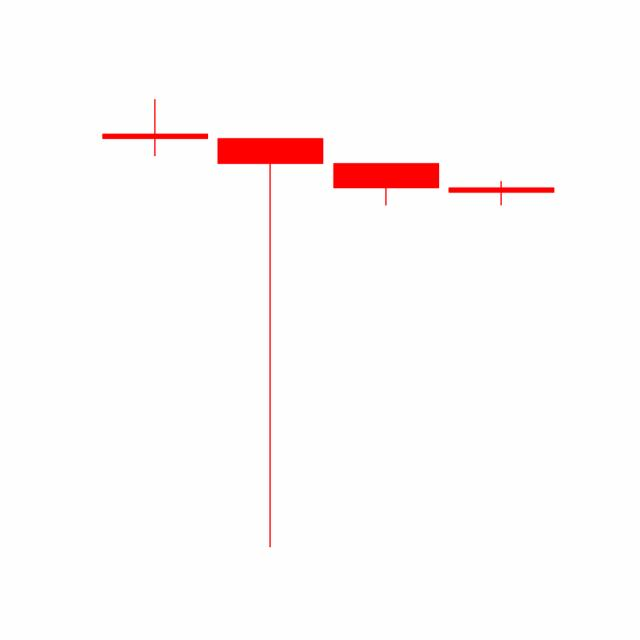Hammer: (443, 181, 559, 206)
